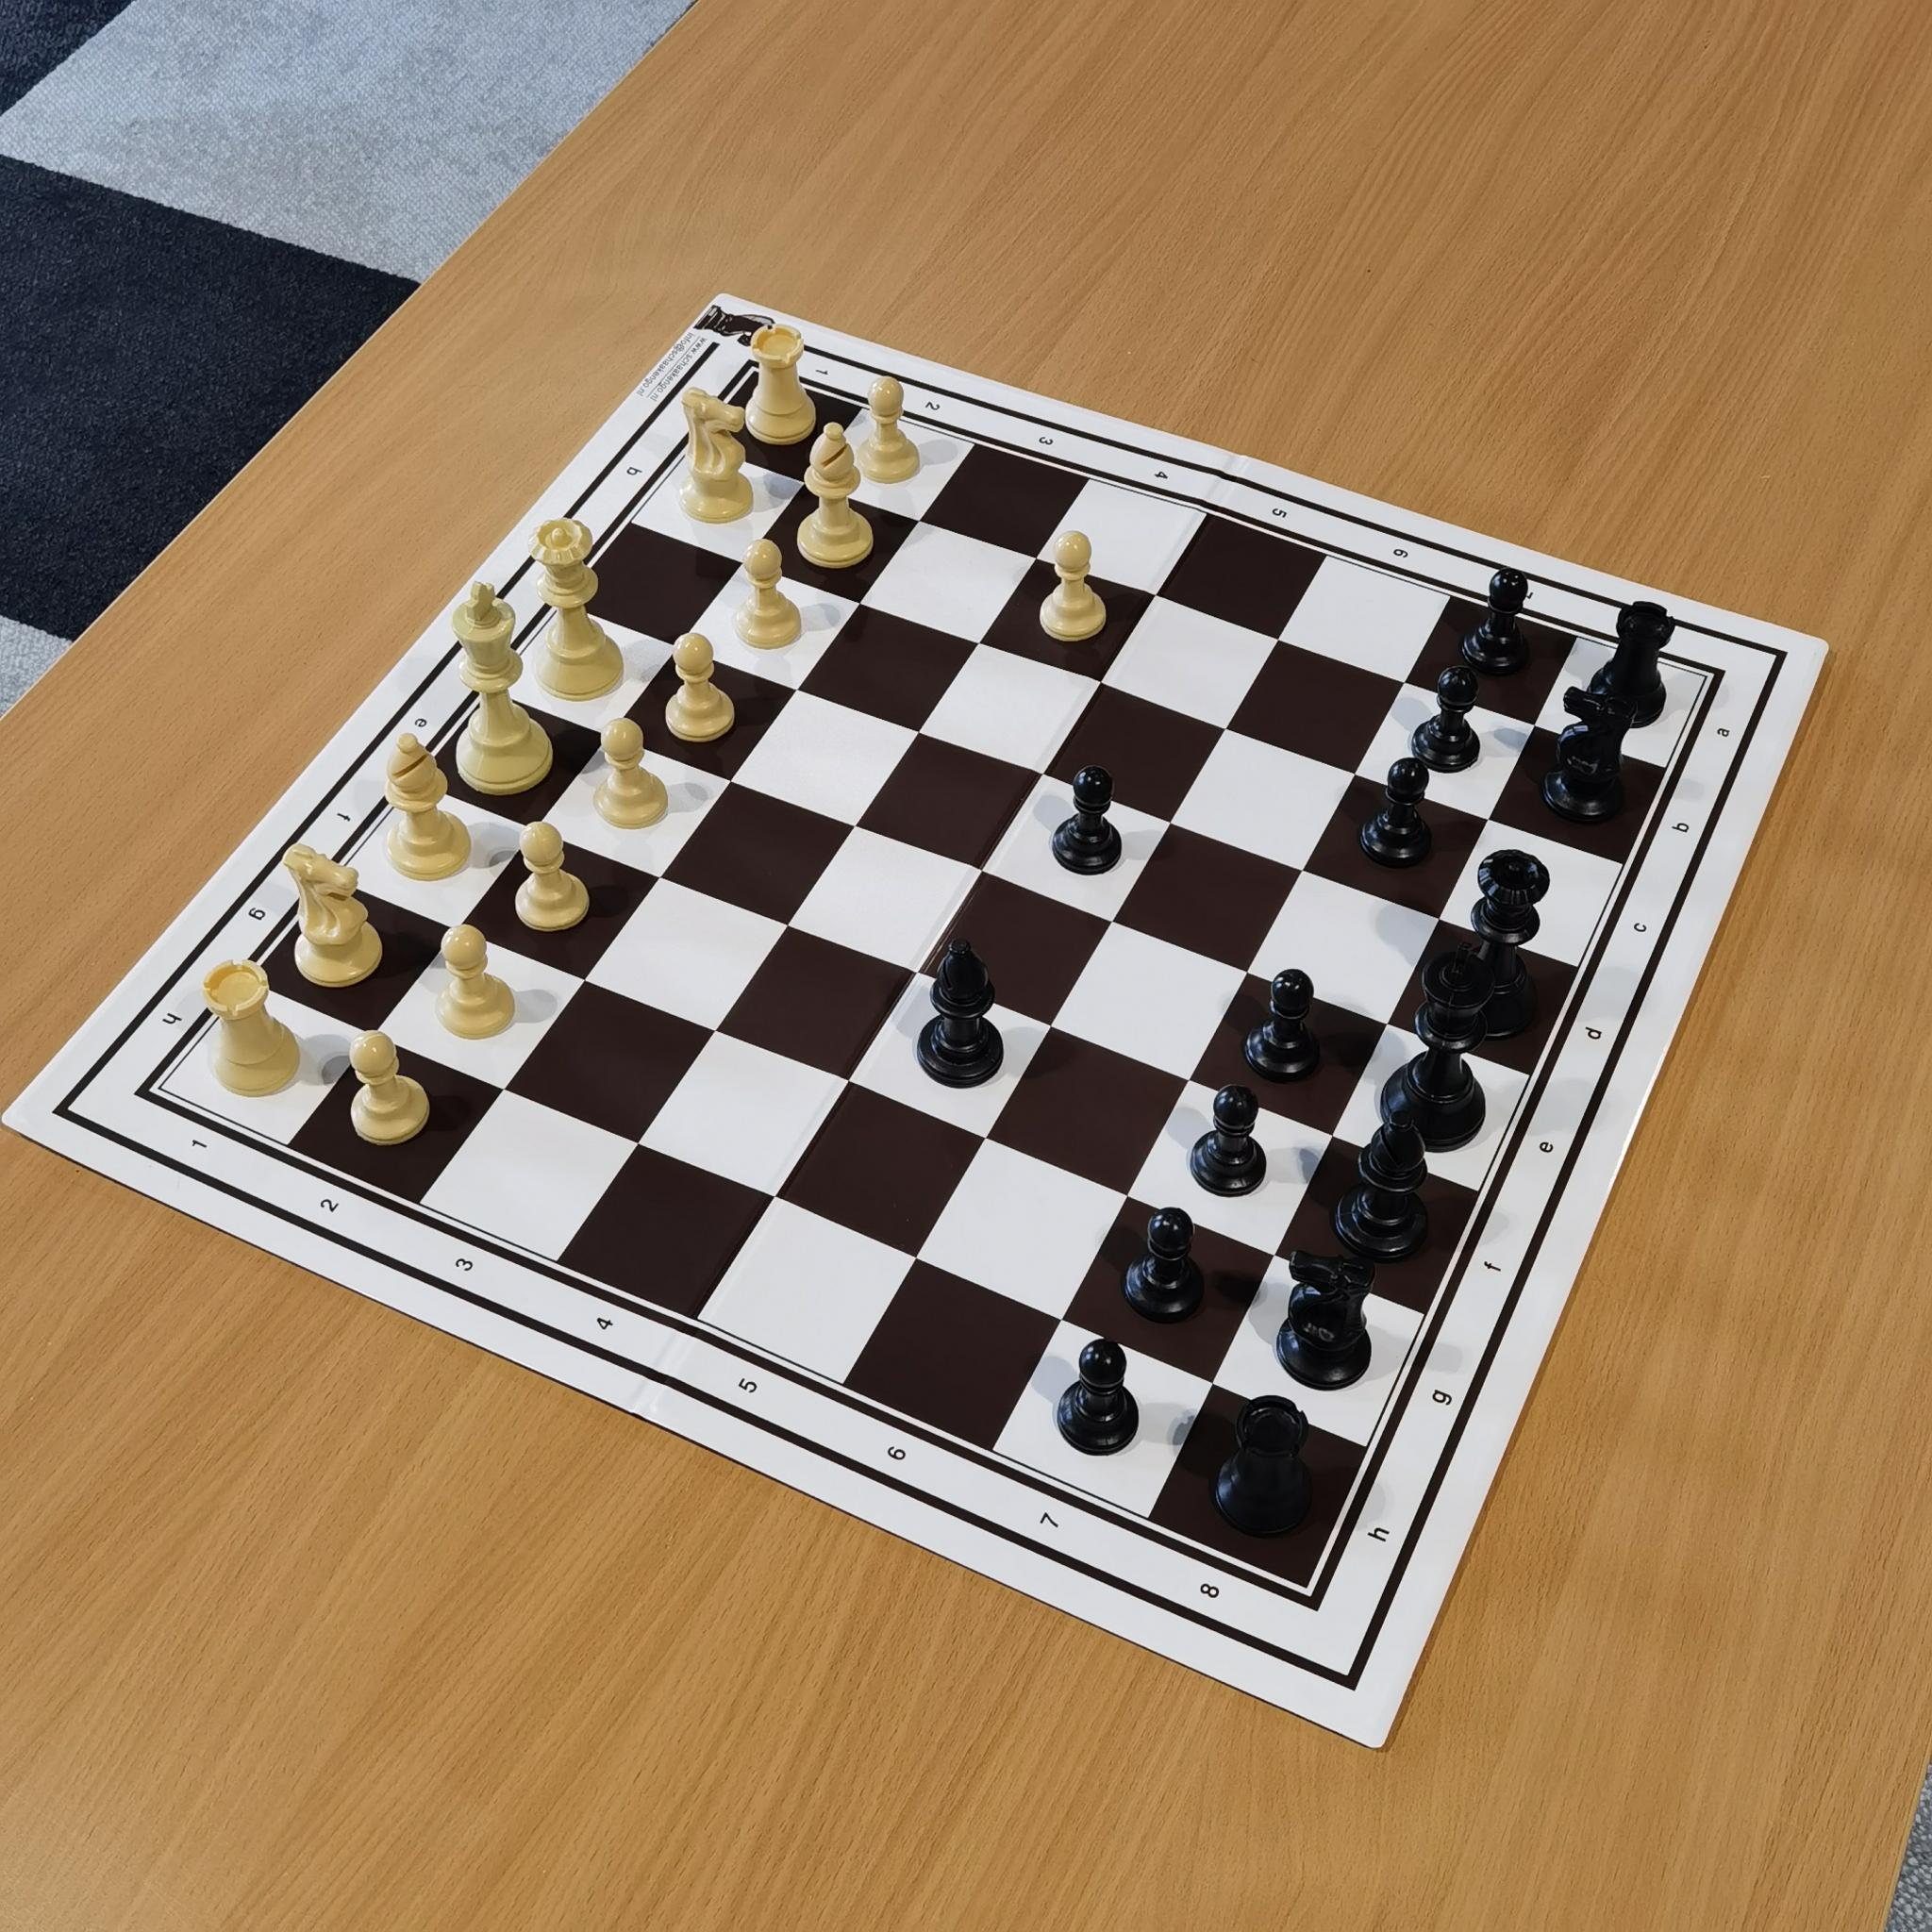corners: (1279, 1569, 1343, 1633), (111, 1069, 179, 1113), (1683, 656, 1741, 699), (741, 338, 789, 384)
eight: (1185, 1569, 1237, 1606), (1626, 616, 1670, 644)
one: (177, 1122, 221, 1168), (807, 359, 842, 389)
